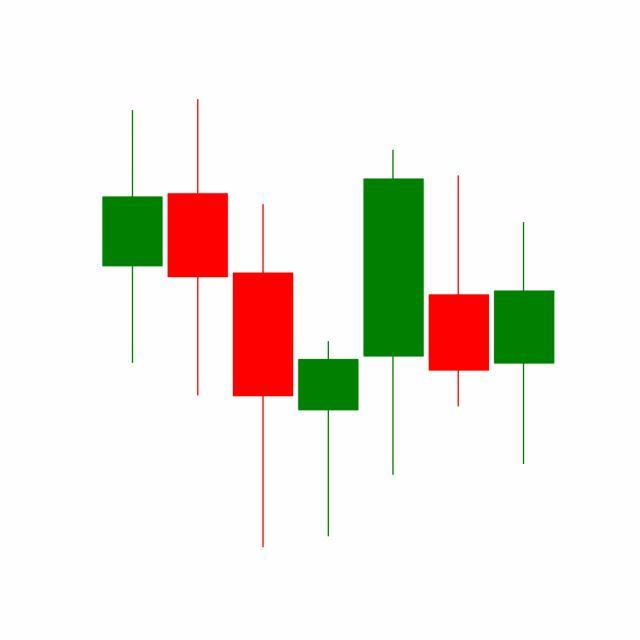Upside-Downside Gap Three Methods: (295, 146, 492, 542)
